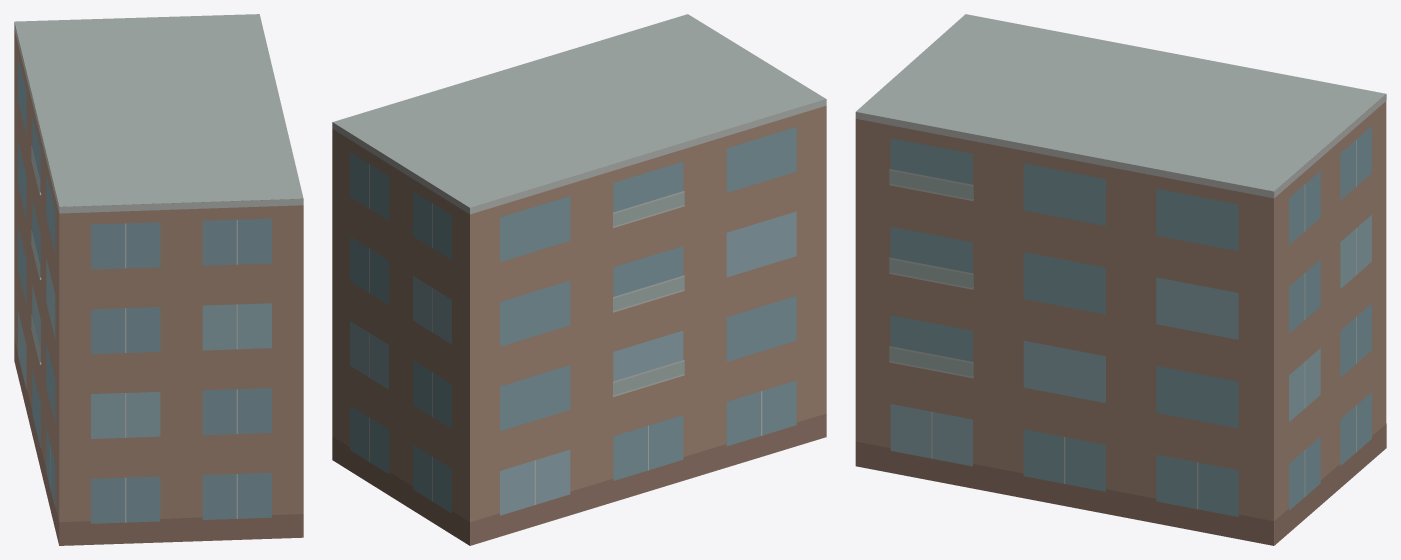
Rendered from survey-upis-32523760.glb.
3 renders of one model, left to right at view 1: azimuth 30°, elevation 25°; view 2: azimuth 150°, elevation 25°; view 3: azimuth 270°, elevation 25°, orthographic. The views are drawn at different scales.
Visible parts, largest first — view 1: survey-upis-32523760.tmp; view 2: survey-upis-32523760.tmp; view 3: survey-upis-32523760.tmp.
Part boxes in pixels (bbox=[...]): survey-upis-32523760.tmp: bbox=[14, 14, 303, 545]; survey-upis-32523760.tmp: bbox=[332, 14, 826, 545]; survey-upis-32523760.tmp: bbox=[855, 14, 1386, 545].
Size of the model in its own units: 13.44 by 12.5 by 16.98.
